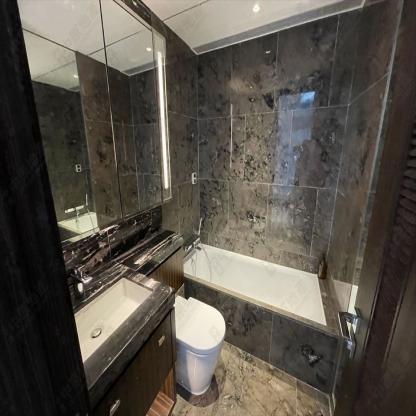Bathtub: (185, 242, 326, 324)
Toilet: (174, 292, 225, 397)
Toilet Sink: (73, 275, 154, 364)
